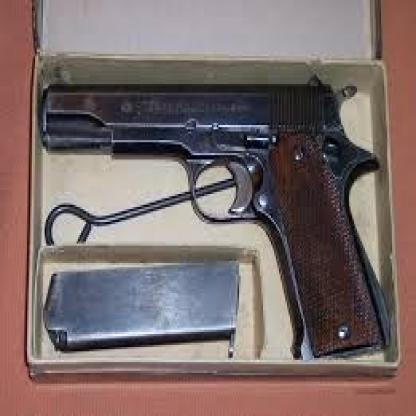Pistol: (37, 80, 392, 364)
